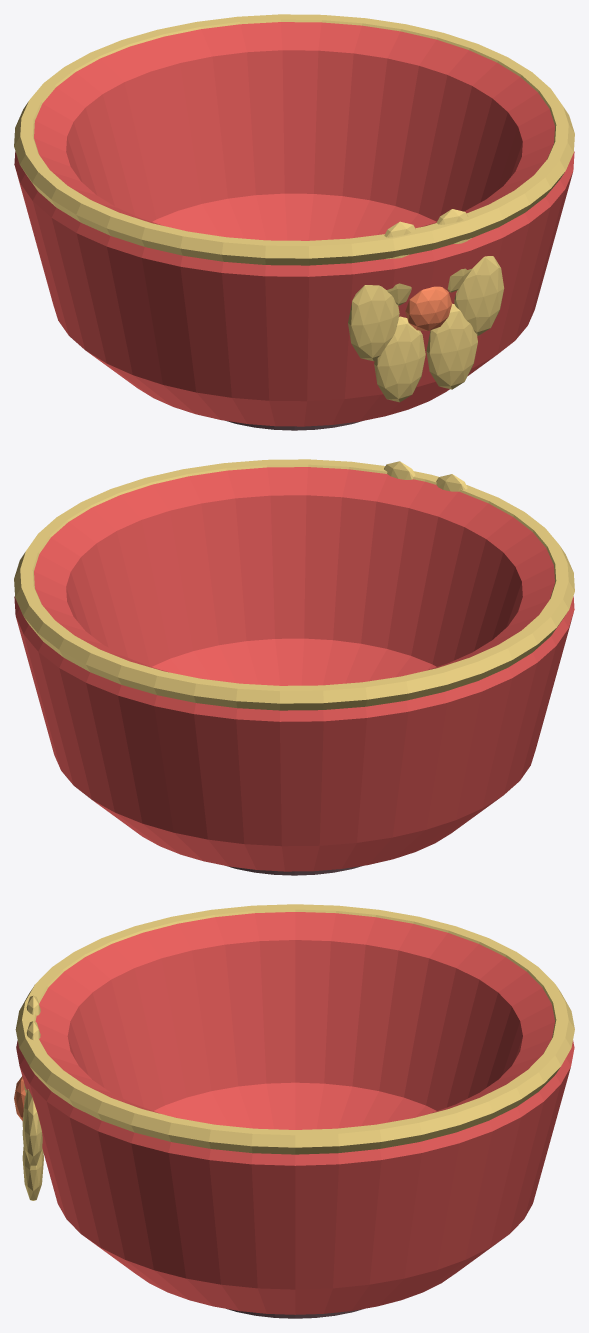
Rendered from craft_shikki_wan.glb.
The picture shows the model from 3 angles, top to bottom: view 1: azimuth 30°, elevation 25°; view 2: azimuth 150°, elevation 25°; view 3: azimuth 270°, elevation 25°; orthographic projection.
Visible parts, largest first — view 1: Shikki wan carved lacquer rice bowl, Gold hand-laid rim, Gold shikki lacquer painting_petal05, Gold shikki lacquer painting_petal03, Gold shikki lacquer painting_petal04, Gold shikki lacquer painting_petal00, Gold shikki lacquer painting_center, Gold shikki lacquer painting_petal02, Gold shikki lacquer painting_petal01; view 2: Shikki wan carved lacquer rice bowl, Gold hand-laid rim; view 3: Shikki wan carved lacquer rice bowl, Gold hand-laid rim, Gold shikki lacquer painting_petal00, Gold shikki lacquer painting_petal05.
Part boxes in pixels (<box>): Shikki wan carved lacquer rice bowl: <box>14,22,574,426</box>; Gold hand-laid rim: <box>14,14,574,265</box>; Gold shikki lacquer painting_petal05: <box>426,303,477,389</box>; Gold shikki lacquer painting_petal03: <box>348,285,399,361</box>; Gold shikki lacquer painting_petal04: <box>374,316,425,402</box>; Gold shikki lacquer painting_petal00: <box>454,256,504,335</box>; Gold shikki lacquer painting_center: <box>405,286,451,330</box>; Gold shikki lacquer painting_petal02: <box>384,221,415,305</box>; Gold shikki lacquer painting_petal01: <box>436,209,471,292</box>; Shikki wan carved lacquer rice bowl: <box>14,467,574,871</box>; Gold hand-laid rim: <box>14,459,574,710</box>; Shikki wan carved lacquer rice bowl: <box>16,912,574,1314</box>; Gold hand-laid rim: <box>15,904,574,1154</box>; Gold shikki lacquer painting_petal00: <box>22,1089,42,1166</box>; Gold shikki lacquer painting_petal05: <box>22,1143,43,1200</box>.
Bounding box in the file's own units: 1.94 × 1.01 × 1.95.
